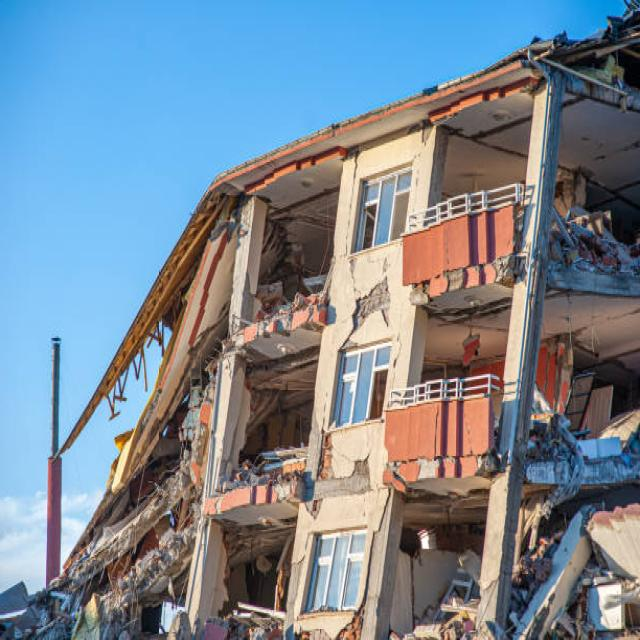Destroyed_building: (31, 1, 639, 640)
